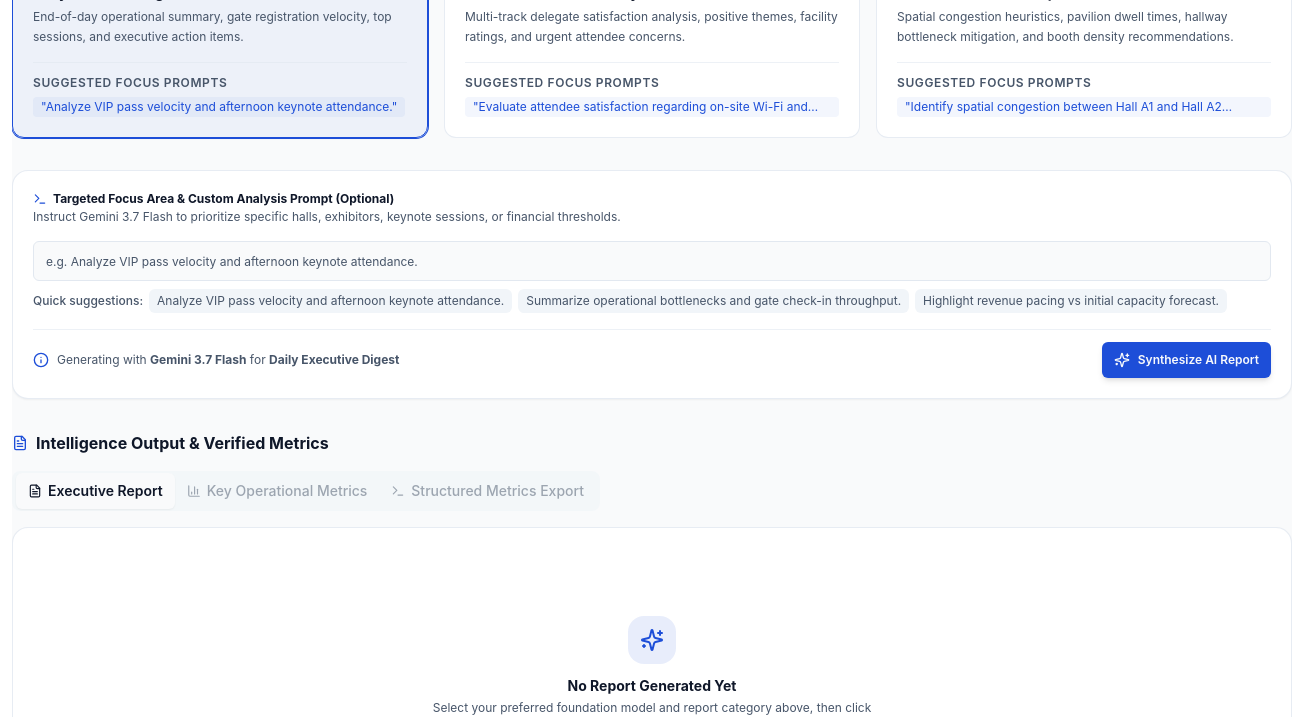
Test case: AIReportsHub Adversarial & Interactive Controls Suite › handles network failure during report generation gracefully
(page scrolled)
Click the button "Synthesize AI Report" at (1186, 360), box [1102,342,1271,378]
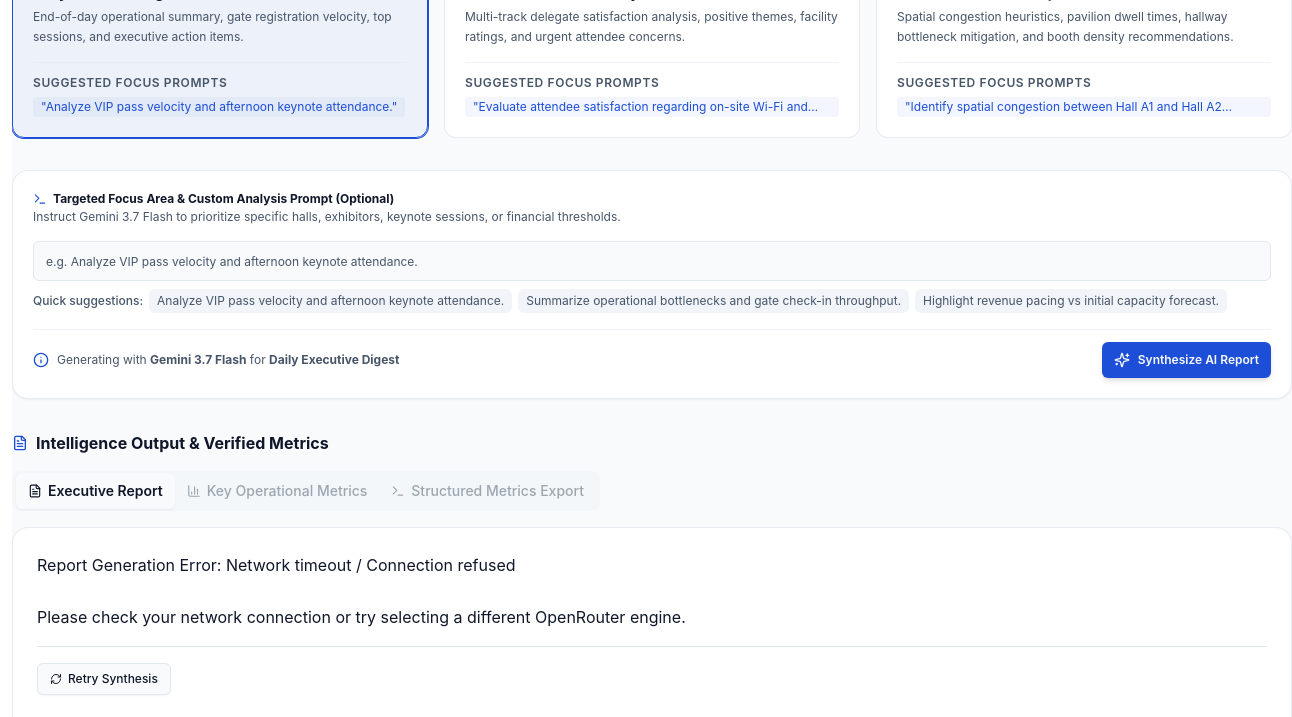
Result: the text "Network timeout / Connection refused" is shown at [37,555,686,627]
